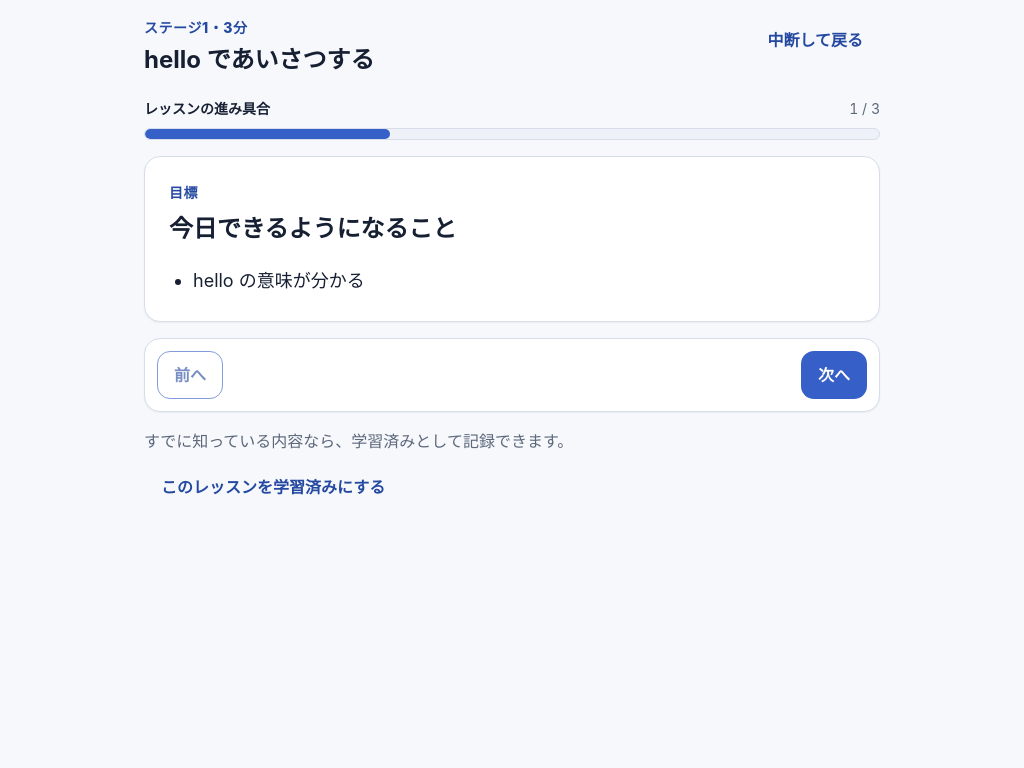
Test case: レッスンレンダラー › 次へ移動する前に進捗を保存する
Expected: the heading "今日できるようになること" is shown, left=169, top=214, right=456, bottom=243
Click the button "次へ": {"x": 834, "y": 375} left=801, top=351, right=867, bottom=399
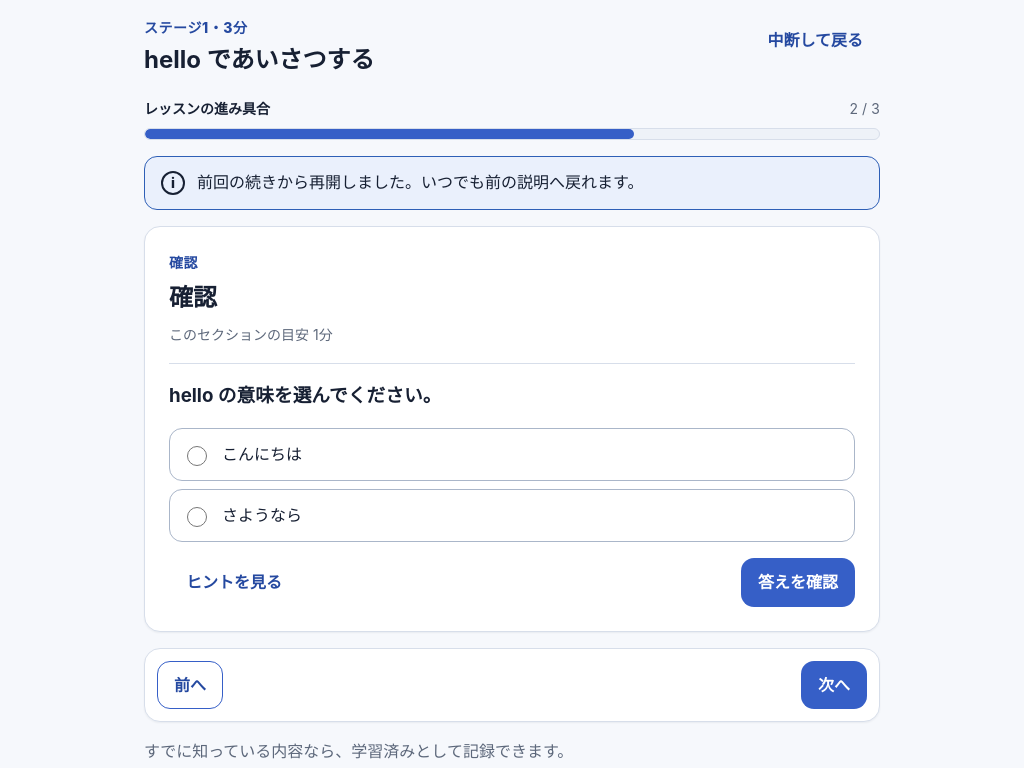
Expected: the heading "確認" is shown, left=169, top=283, right=217, bottom=312
